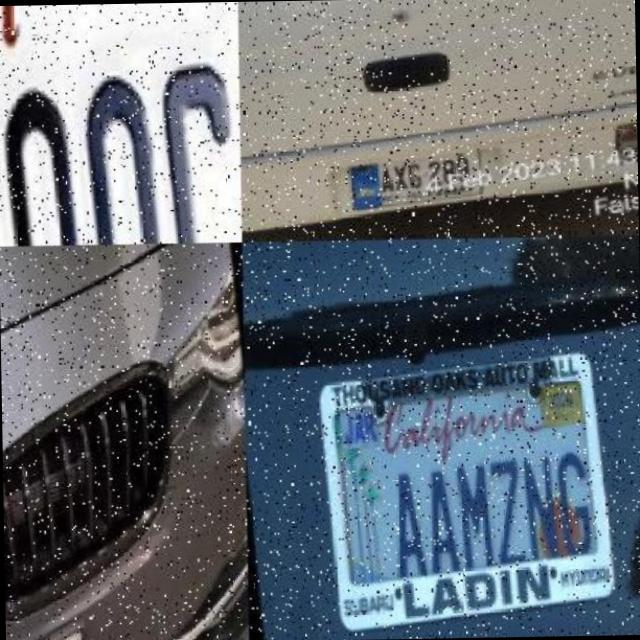LicensePlate: (319, 343, 605, 638), (0, 66, 241, 245), (333, 144, 492, 223)
